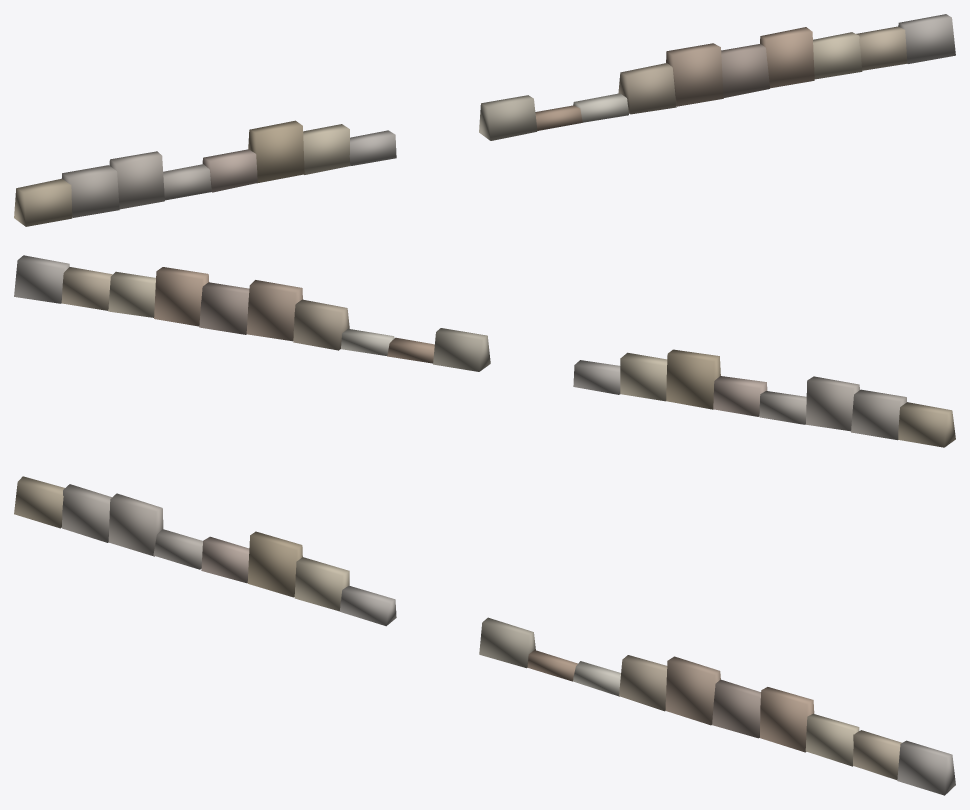
File: farm_28_13_far.glb
3 renders of one model, top to bottom at view 1: azimuth 30°, elevation 25°; view 2: azimuth 150°, elevation 25°; view 3: azimuth 330°, elevation 25°, orthographic. The views are drawn at different scales.
Parts seen in each view (by area): view 1: geometry_0; view 2: geometry_0; view 3: geometry_0.
Boxes of the visible parts, bbox=[...] form: geometry_0: bbox=[14, 14, 955, 226]; geometry_0: bbox=[14, 255, 955, 447]; geometry_0: bbox=[14, 476, 955, 795].
Bounding box in the file's own units: 30.9 × 3.25 × 1.38.
